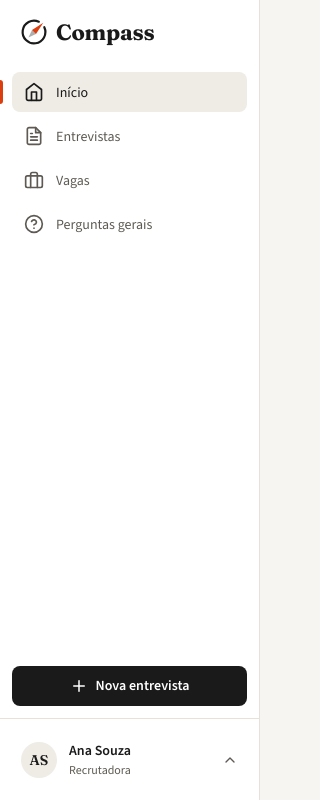
Test: Esc fecha o menu de conta e devolve o foco ao botão
This screenshot has width=320, height=800.
Step 1. Click the button "AS Ana Souza Recrutadora" → coordinates (130, 760), box [12,731,247,788]
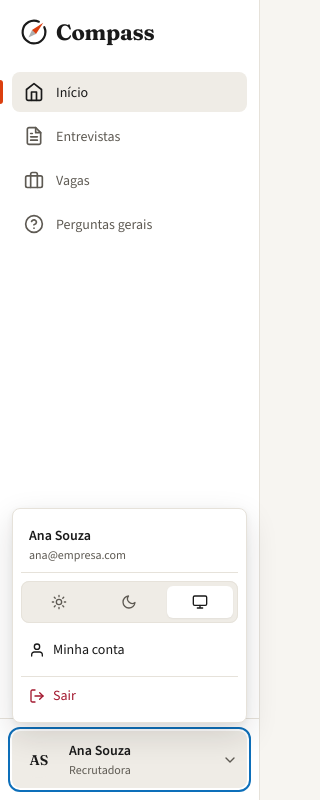
Step 2. Press Escape
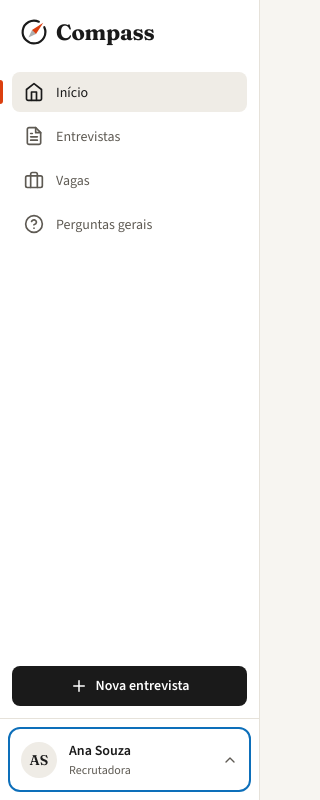
Expected: the button "AS Ana Souza Recrutadora" is collapsed, [12,731,247,788]
